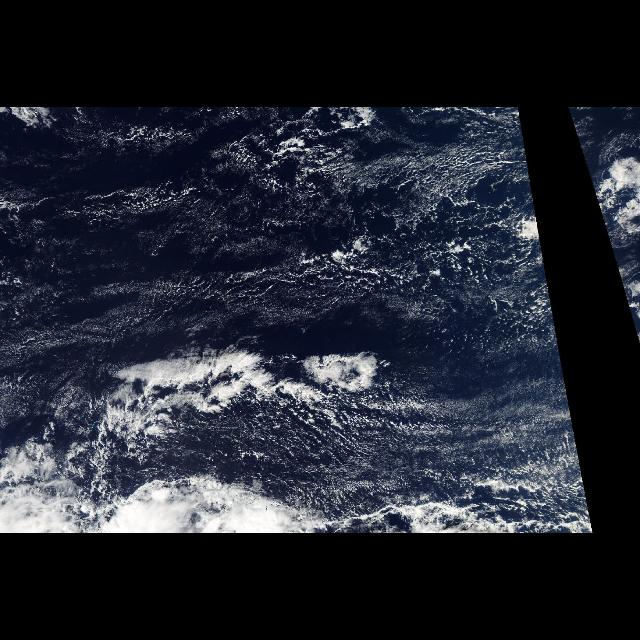Fish: (42, 340, 394, 436)
Gravel: (199, 110, 551, 350)
Sugar: (0, 108, 512, 428), (206, 389, 588, 533)
